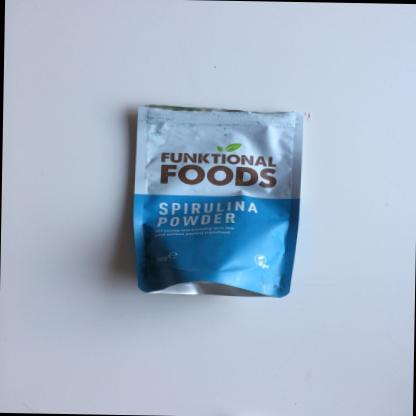Plastic: (132, 104, 302, 297)
